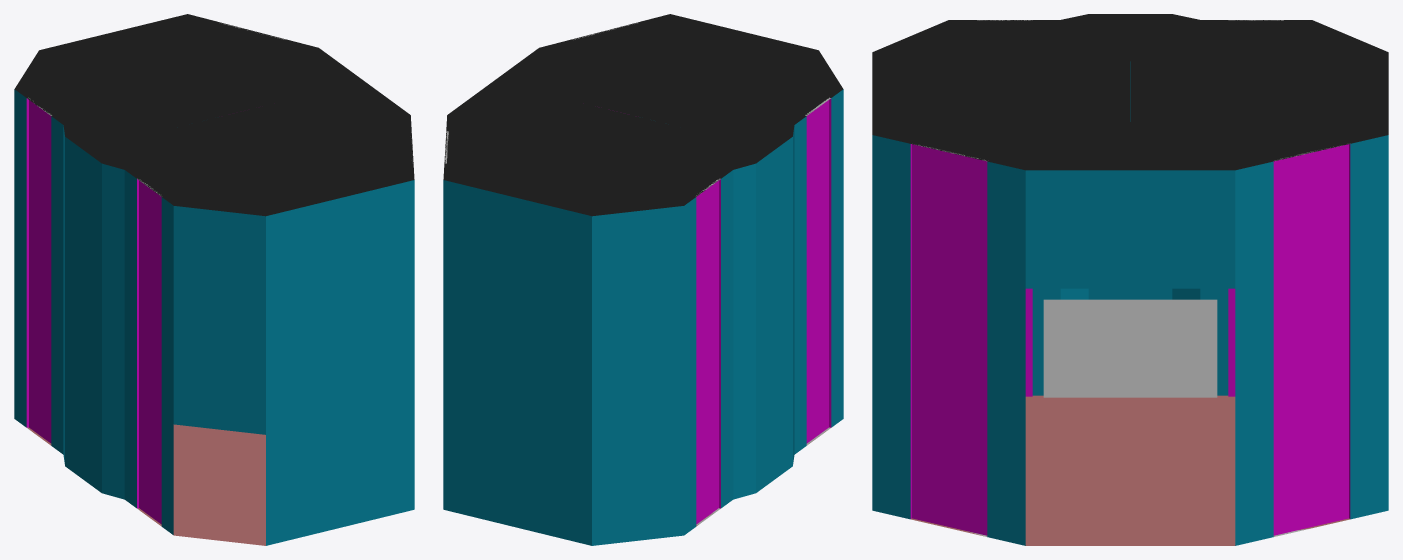
File: Hall_V1.1.fbx
3 renders of one model, left to right at view 1: azimuth 30°, elevation 25°; view 2: azimuth 150°, elevation 25°; view 3: azimuth 270°, elevation 25°, orthographic. The views are drawn at different scales.
Parts seen in each view (by area): view 1: Hall4; view 2: Hall4; view 3: Hall4.
Part boxes in pixels (bbox=[...]): Hall4: bbox=[14, 14, 414, 545]; Hall4: bbox=[443, 14, 843, 545]; Hall4: bbox=[872, 14, 1388, 545].
Size of the model in its own units: 1334 by 1484 by 1850.
